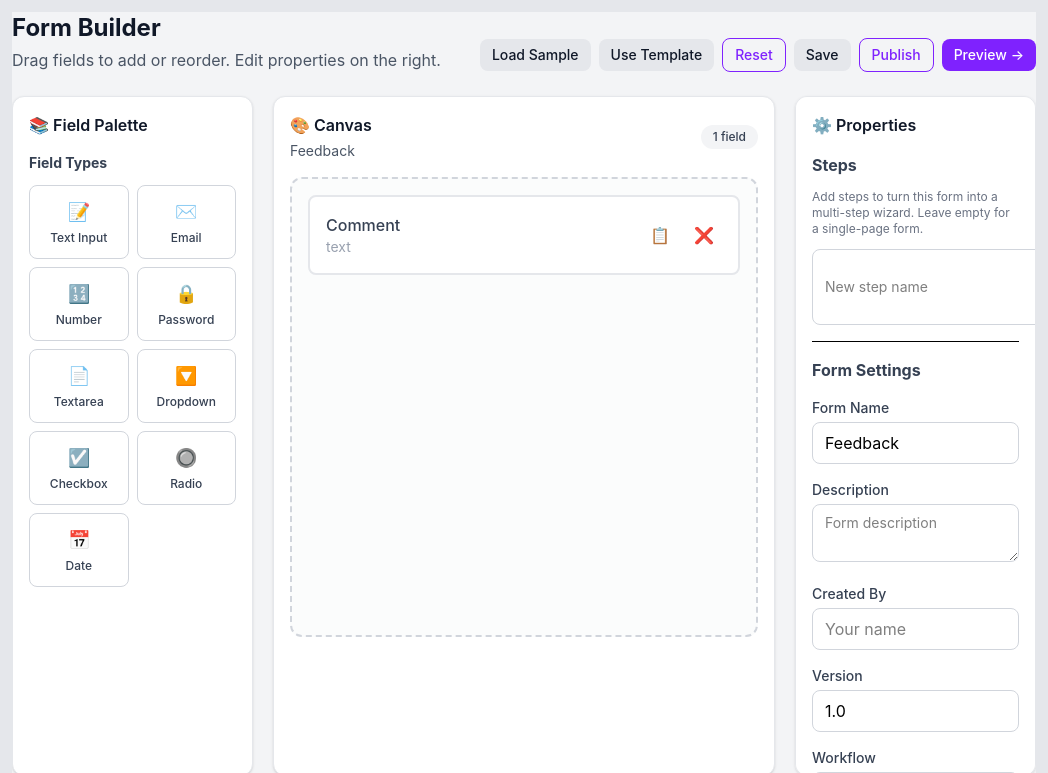
FormBuilder page › publishes a form, setting its status to Published
Click the button "Publish" at (896, 55), box [859, 38, 934, 72]
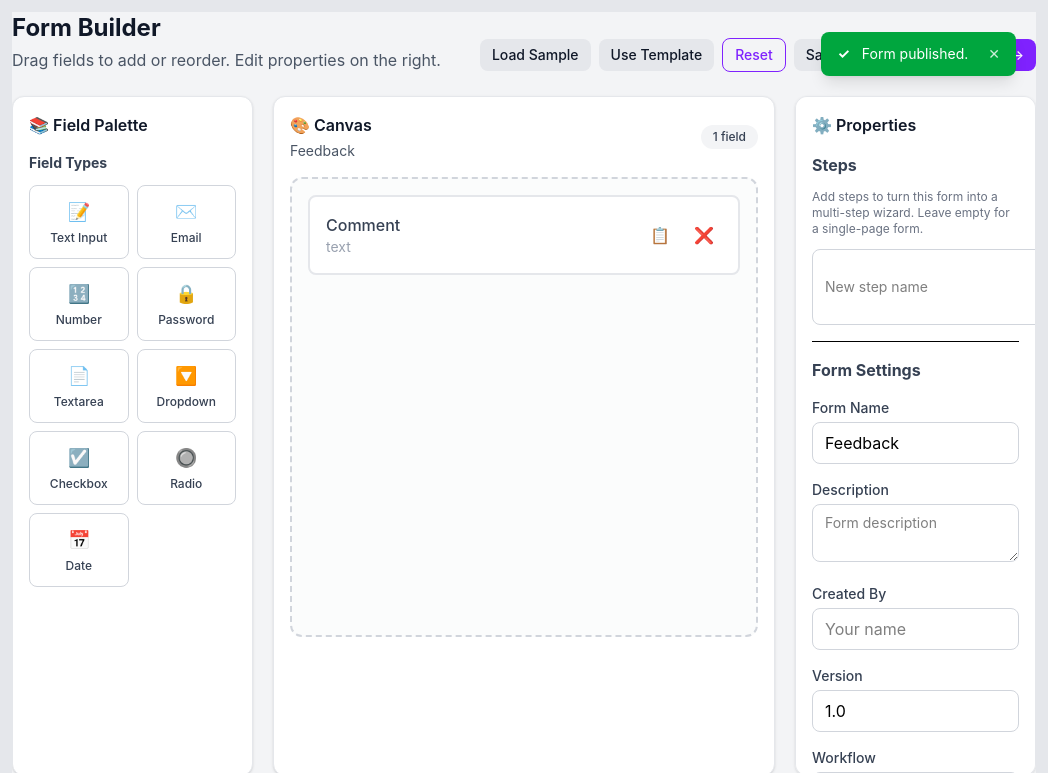
Now the text "Form published." is shown, box [862, 44, 968, 64]
